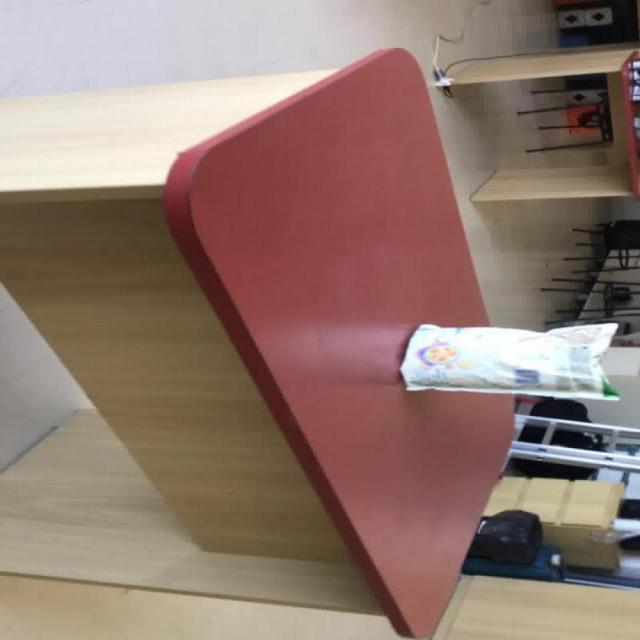CornFlakes: (397, 321, 619, 401)
